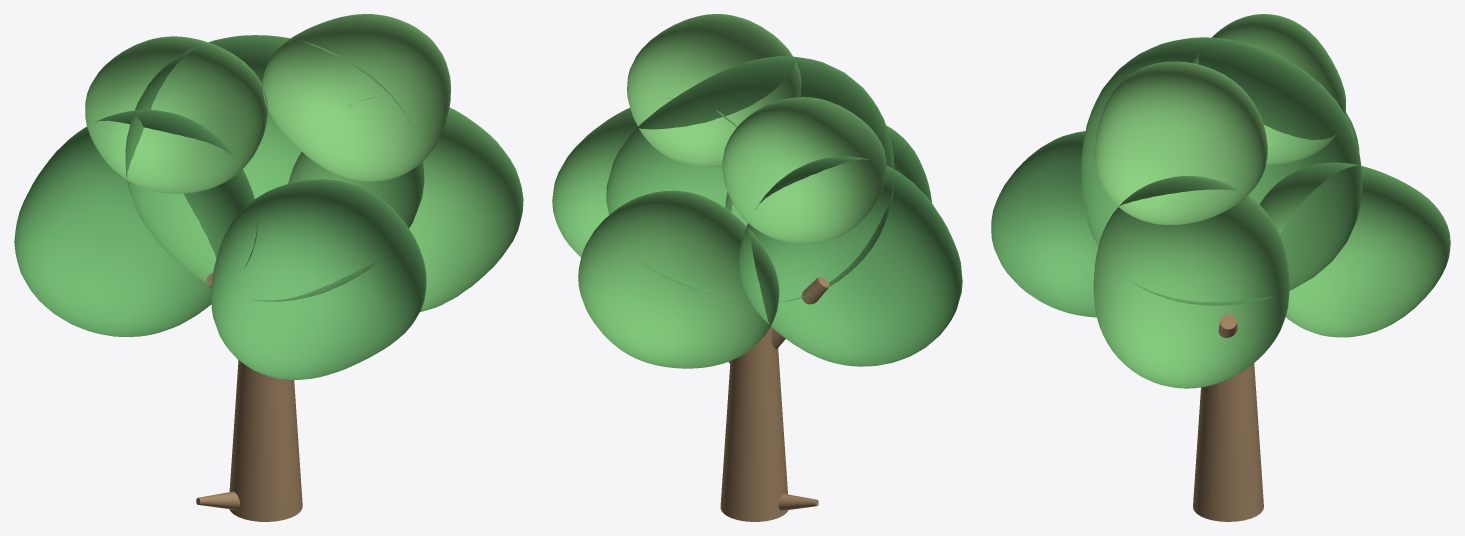
The model's file is green_tree.glb.
3 views of the same model, side by side, from view 1: azimuth 30°, elevation 25°; view 2: azimuth 150°, elevation 25°; view 3: azimuth 270°, elevation 25° (orthographic). The views are drawn at different scales.
Visible parts, largest first — view 1: Leaves 5, Leaves 3, Leaves 6, Leaves 7, Leaves 2, Leaves 1, Trunk; view 2: Leaves 3, Leaves 4, Leaves 7, Leaves 1, Leaves 6, Trunk, Leaves 2, Leaves 5; view 3: Leaves 2, Leaves 6, Leaves 1, Leaves 4, Leaves 5, Trunk, Leaves 7.
Boxes of the visible parts, bbox=[...] form: Leaves 5: bbox=[211, 179, 426, 379]; Leaves 3: bbox=[14, 110, 257, 336]; Leaves 6: bbox=[262, 14, 450, 181]; Leaves 7: bbox=[85, 36, 267, 193]; Leaves 2: bbox=[288, 94, 523, 311]; Leaves 1: bbox=[125, 35, 424, 301]; Trunk: bbox=[196, 272, 302, 521]; Leaves 3: bbox=[738, 156, 962, 366]; Leaves 4: bbox=[578, 190, 779, 368]; Leaves 7: bbox=[722, 97, 886, 243]; Leaves 1: bbox=[606, 56, 894, 301]; Leaves 6: bbox=[627, 14, 801, 167]; Trunk: bbox=[720, 276, 829, 521]; Leaves 2: bbox=[552, 98, 736, 257]; Leaves 5: bbox=[725, 125, 931, 212]; Leaves 2: bbox=[1093, 176, 1289, 388]; Leaves 6: bbox=[1094, 61, 1267, 224]; Leaves 1: bbox=[1081, 37, 1362, 305]; Leaves 4: bbox=[1259, 162, 1450, 337]; Leaves 5: bbox=[991, 131, 1098, 317]; Trunk: bbox=[1193, 314, 1263, 521]; Leaves 7: bbox=[1192, 14, 1345, 165].
Size of the model in its own units: 5.81 by 6.17 by 5.43.
